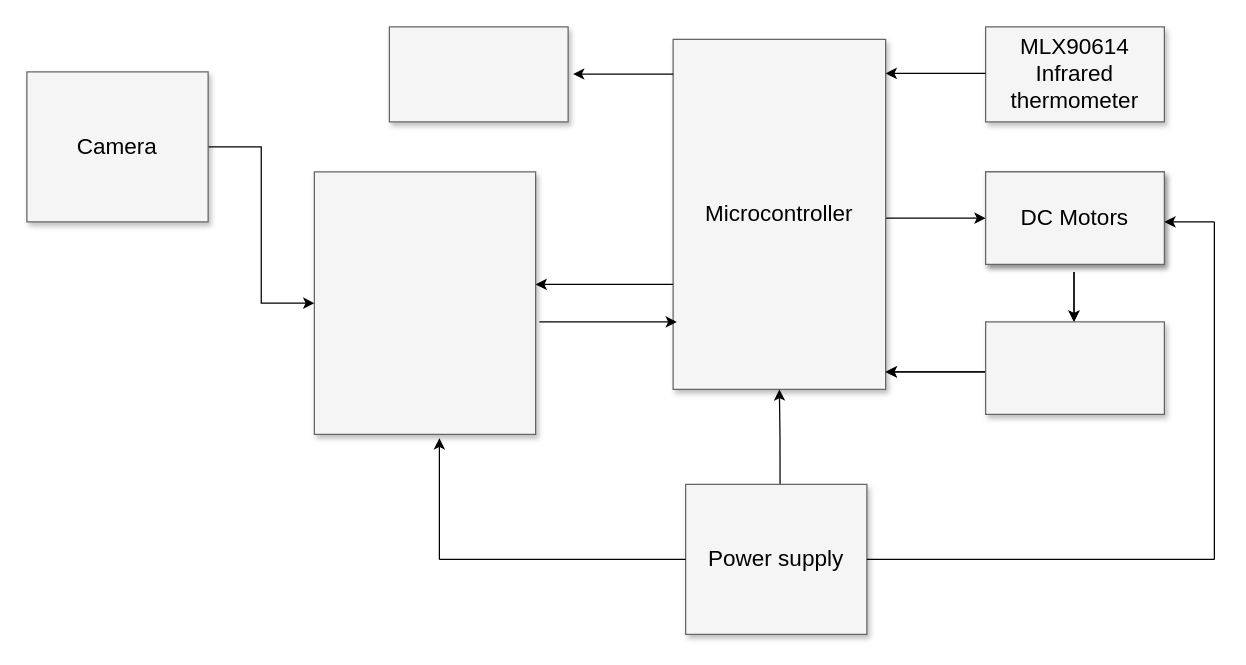
The diagram is 1246 pixels wide and 665 high, and some of its shapes have lost their labels. Each missing label, with the centre of its shape:
Encoders: point (1075, 369)
Infrared led: point (479, 76)
Micro-Computer: point (425, 304)
